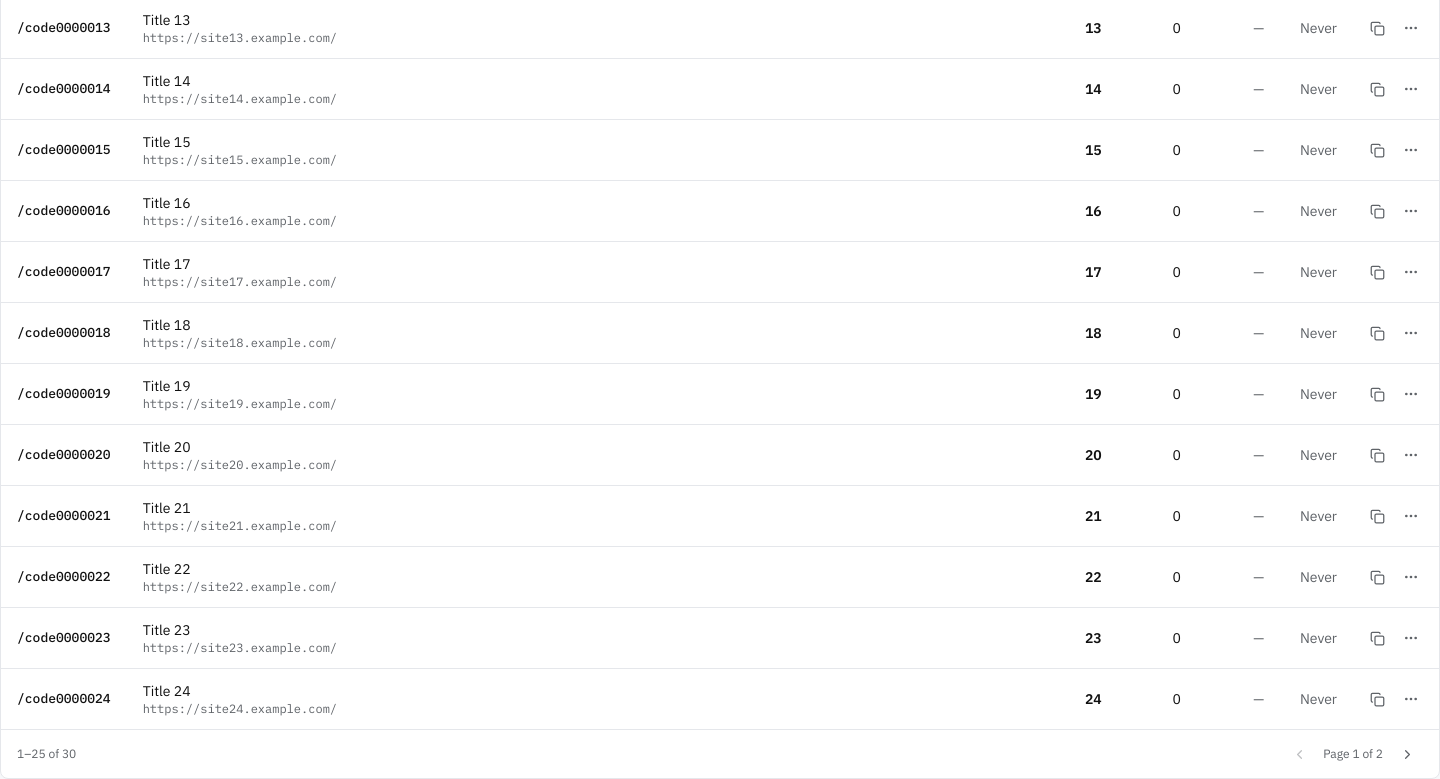
it: Links page › searches and paginates client-side
The image size is (1440, 779).
(page scrolled)
Expected: the text with test id "links-page-info" reads "1–25 of 30", x1=17 y1=746 x2=76 y2=762
Click the button with test id "links-next".
click(1407, 754)  # box x1=1391 y1=738 x2=1423 y2=770
(page scrolled)
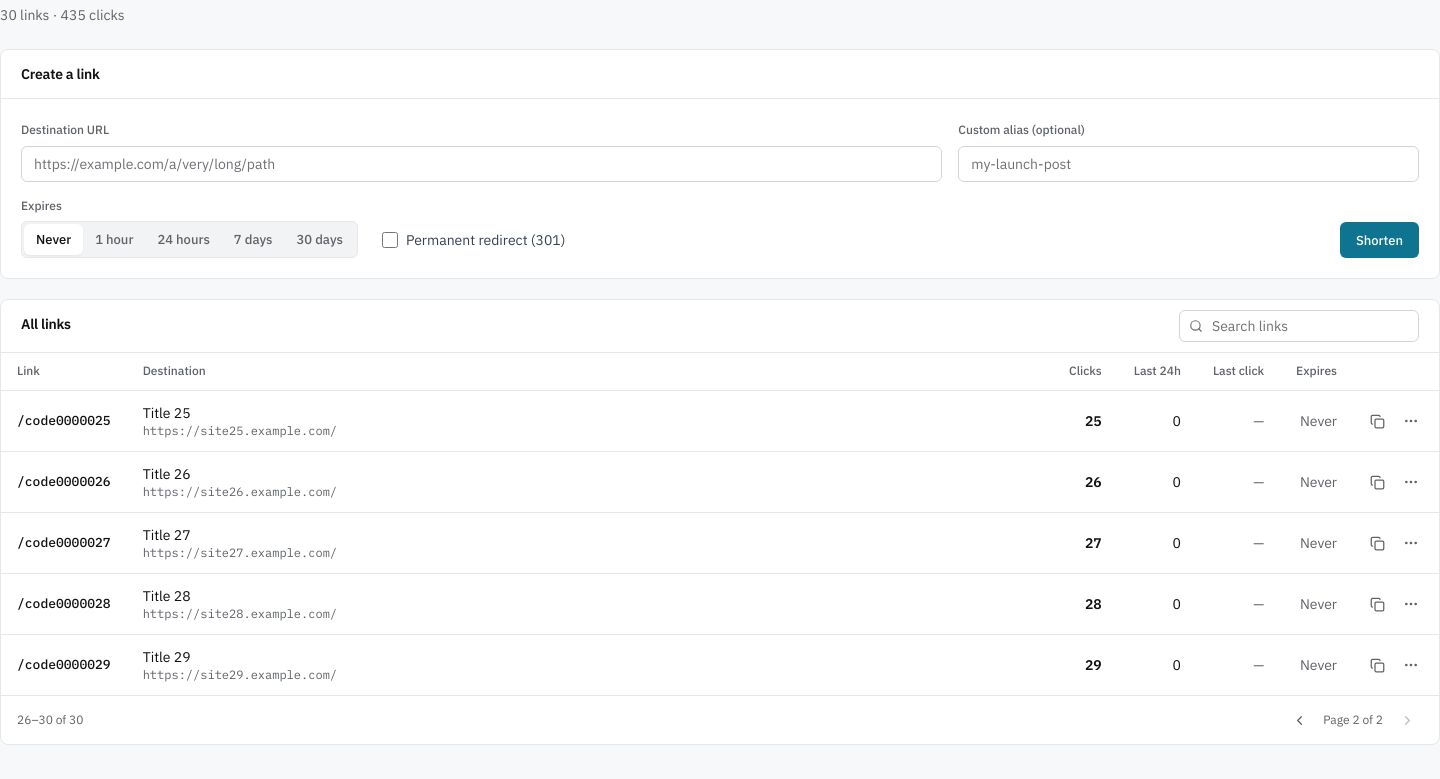
Type "site17." into the search field with test id "links-search".
click(1299, 326); type("site17.")  # box x1=1179 y1=310 x2=1419 y2=342
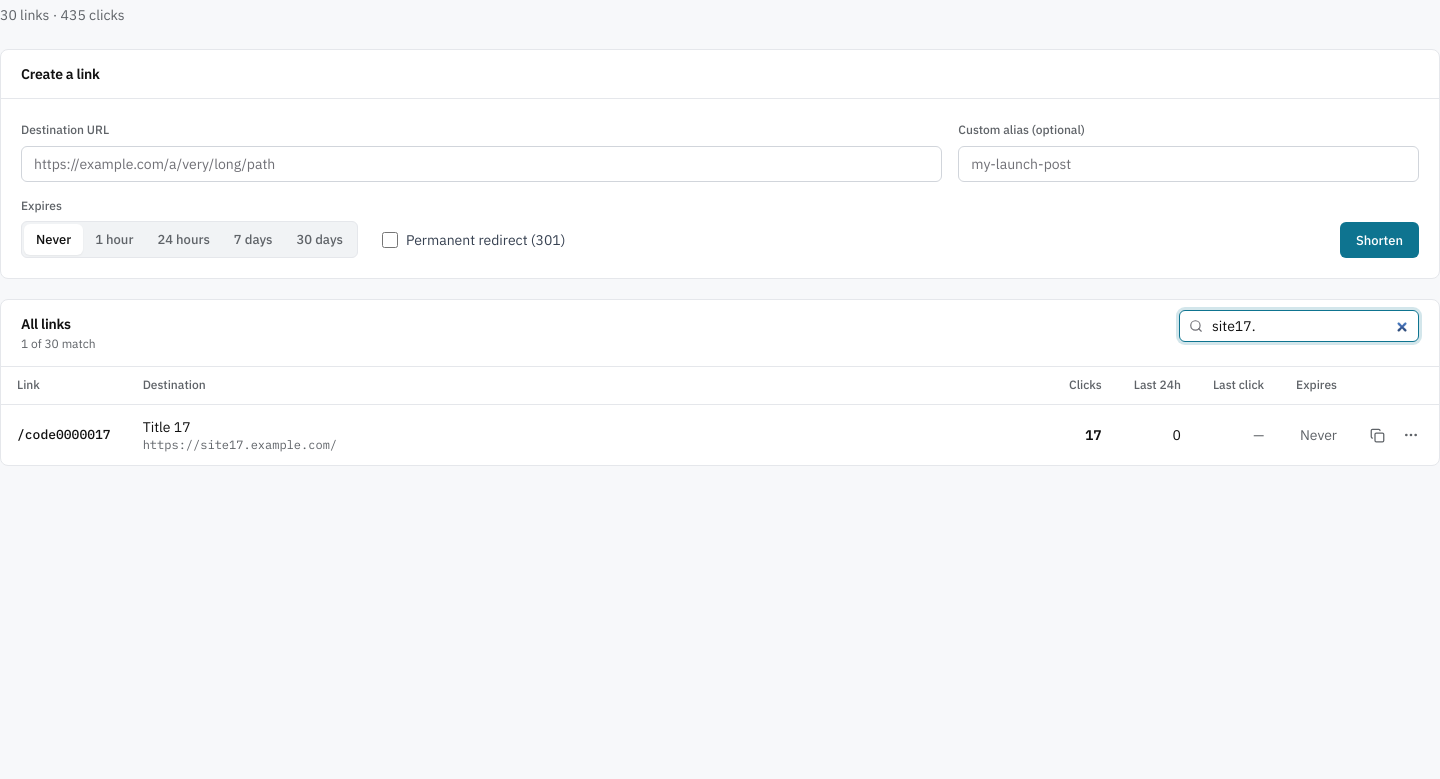
Expected: the row with test id "link-row-code0000017" is shown, x1=1 y1=405 x2=1439 y2=465
